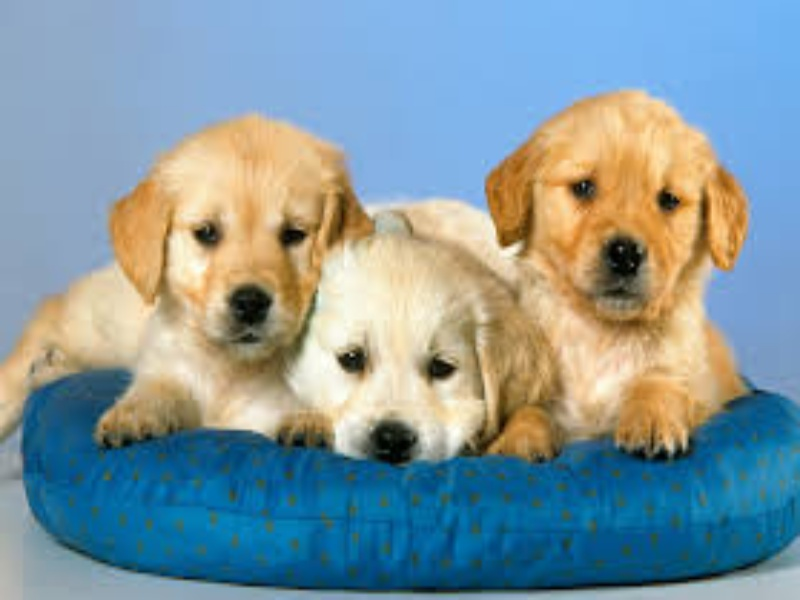dog: (17, 87, 346, 487)
